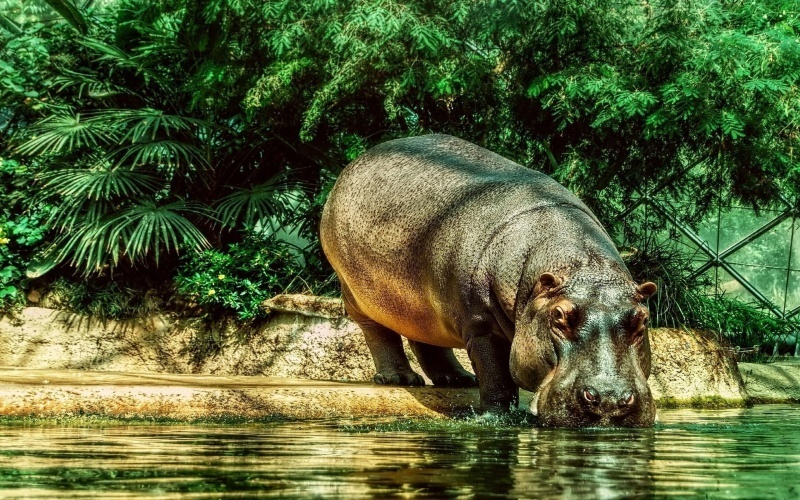hipopotamo: (312, 127, 677, 449)
